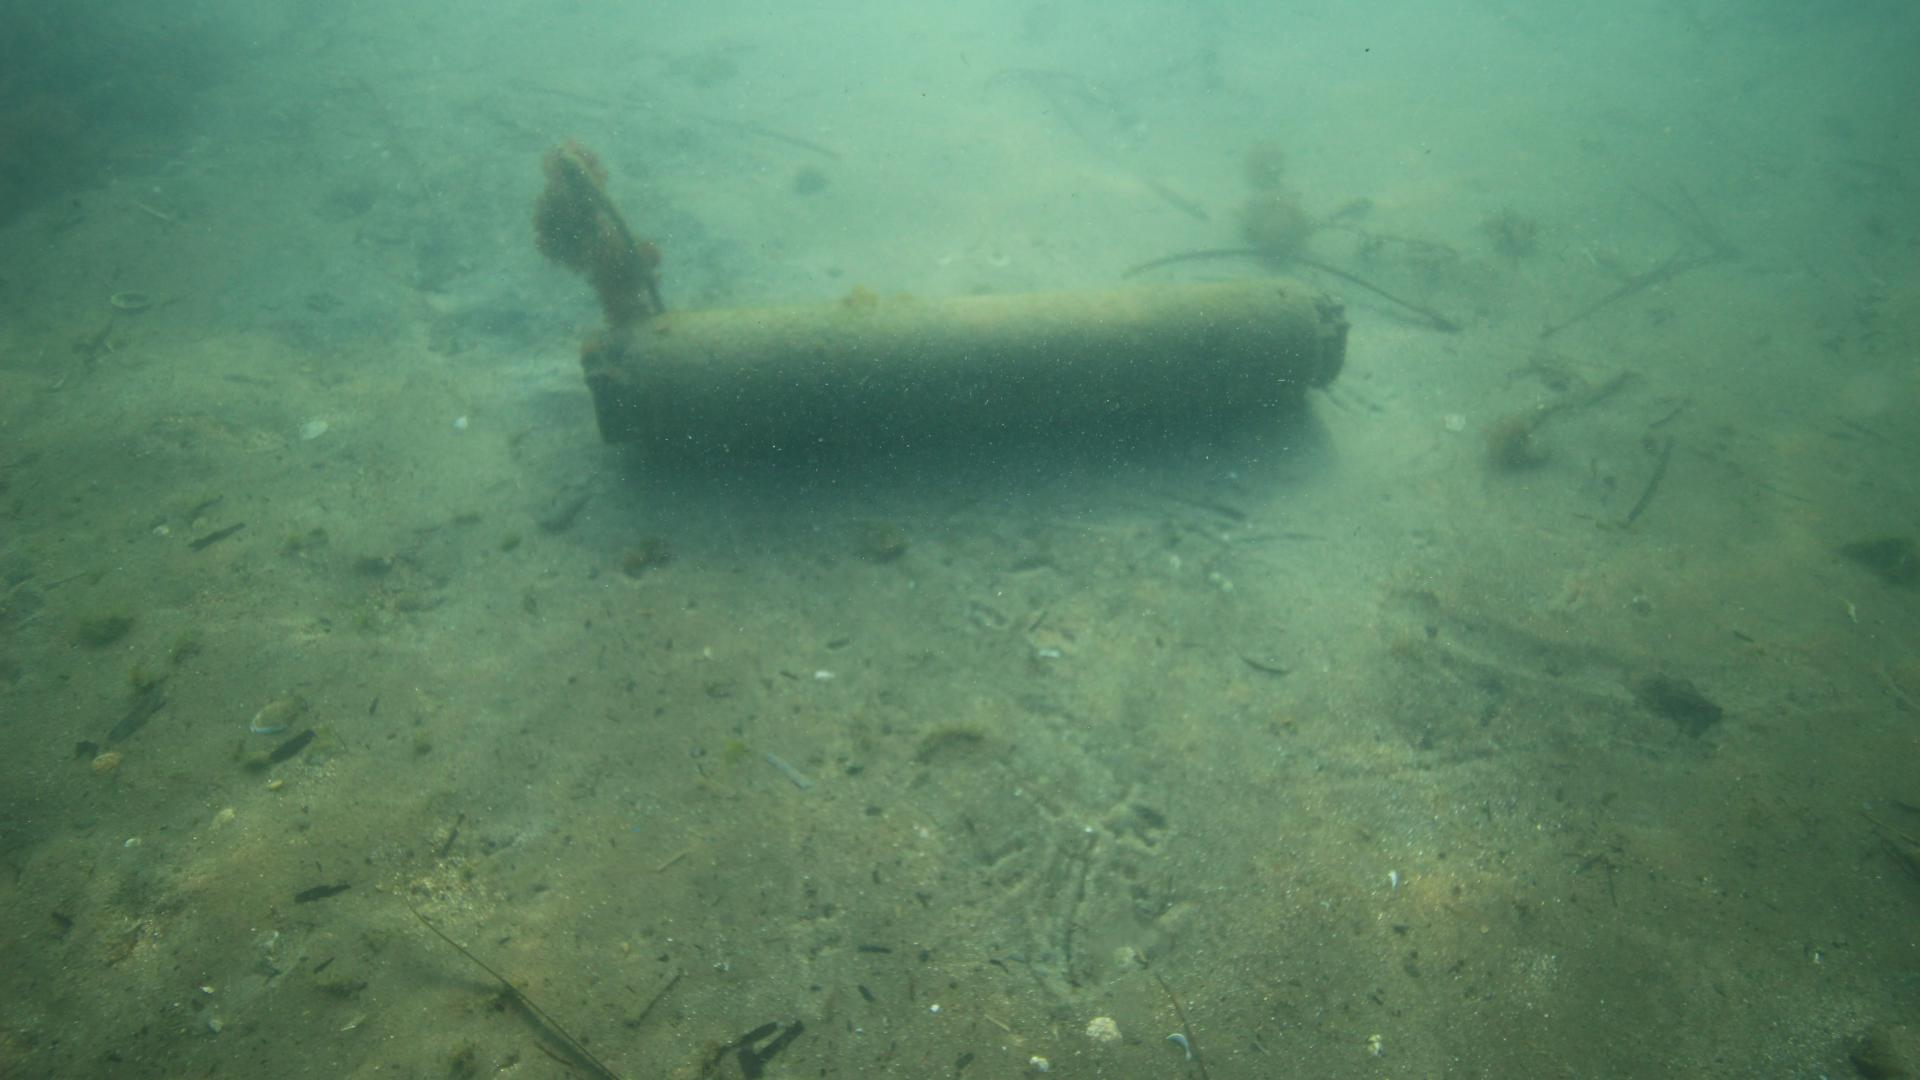eel fish trap: (578, 273, 1350, 451)
